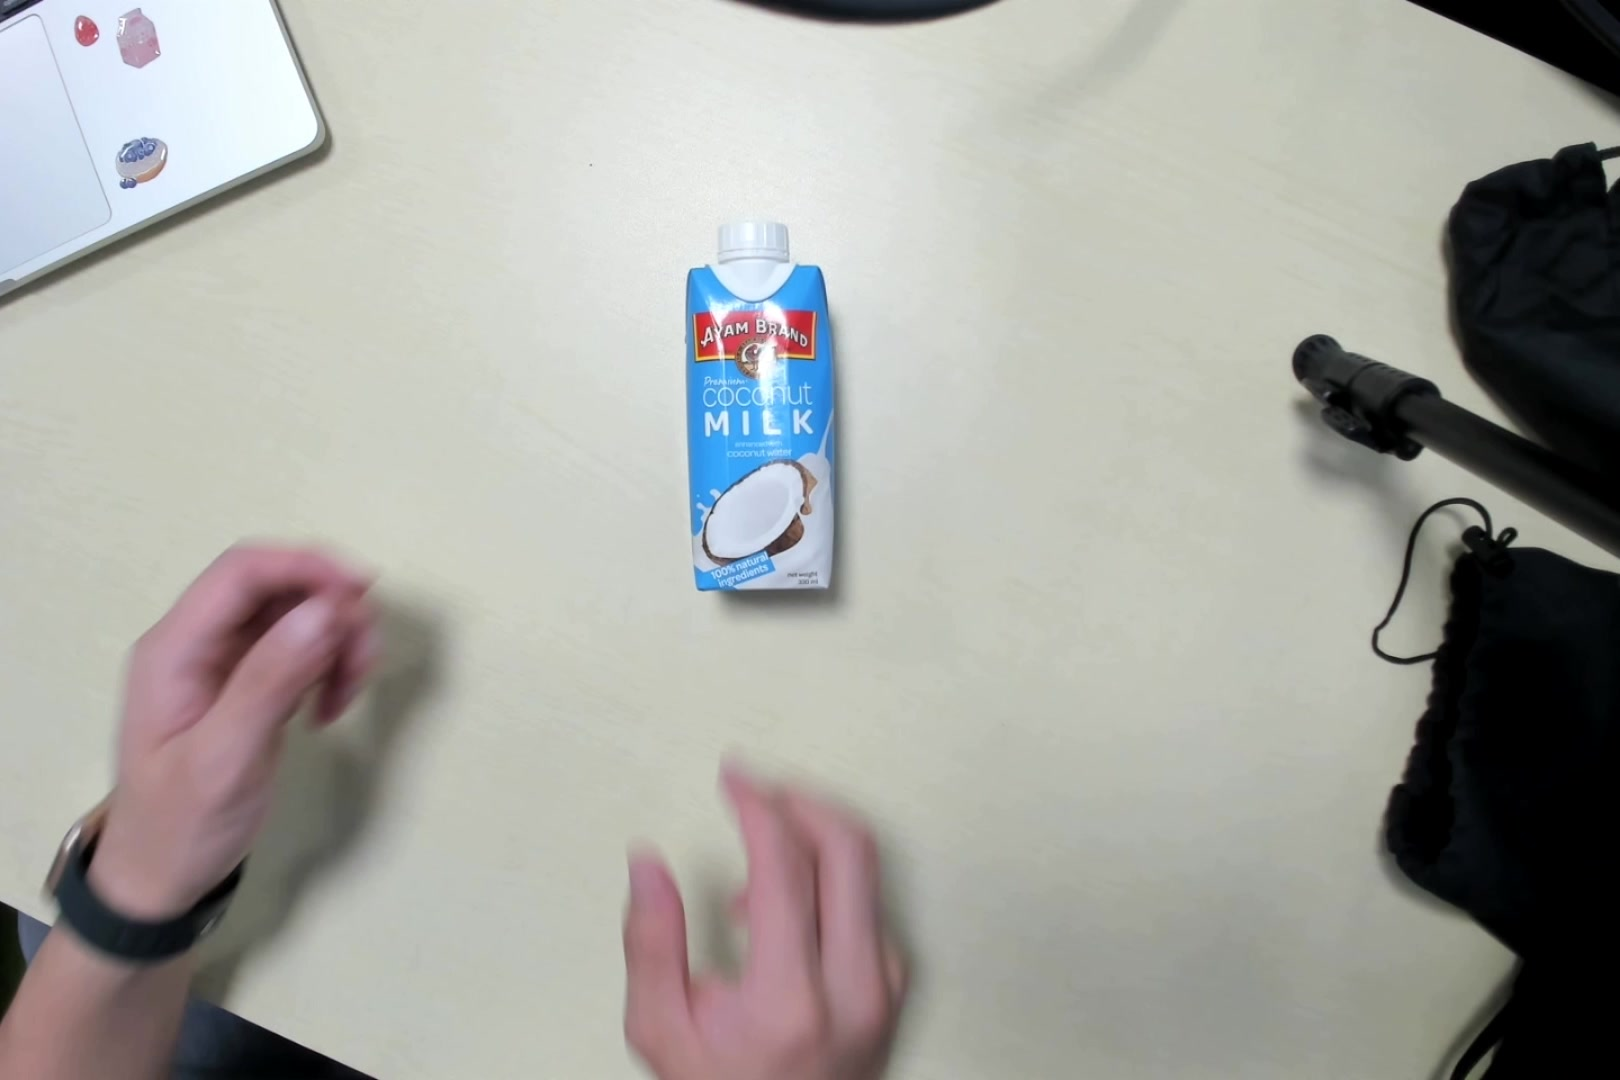CookingCreamMilk_300-399g_Halal_NonHealthy: (675, 206, 843, 603)
